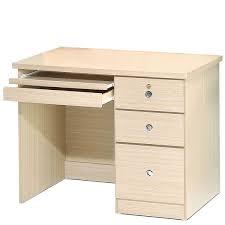desk: (3, 27, 219, 217)
